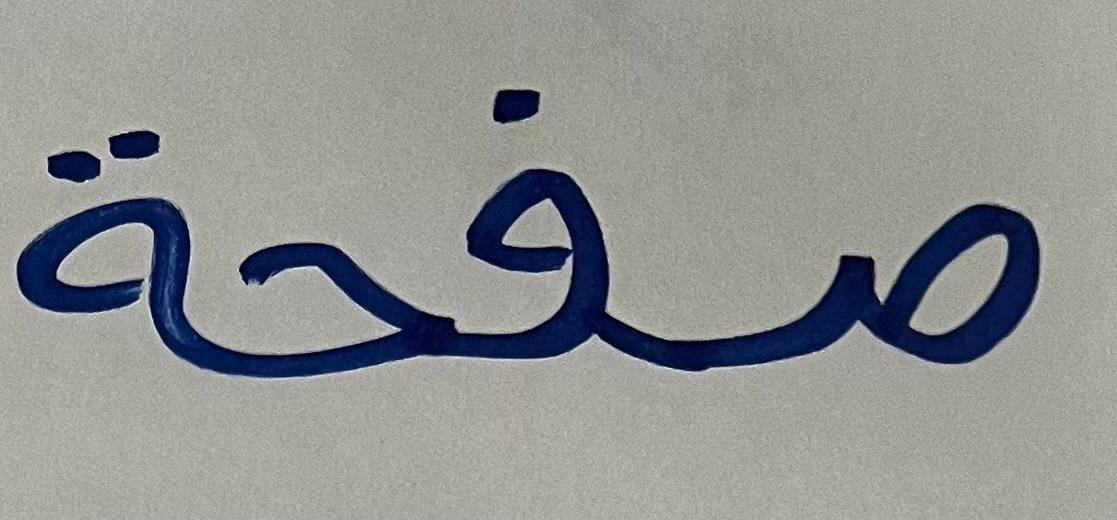feh: (438, 13, 666, 419)
hah: (217, 131, 432, 486)
sad: (683, 44, 1092, 466)
teh_marbota: (14, 52, 210, 425)
